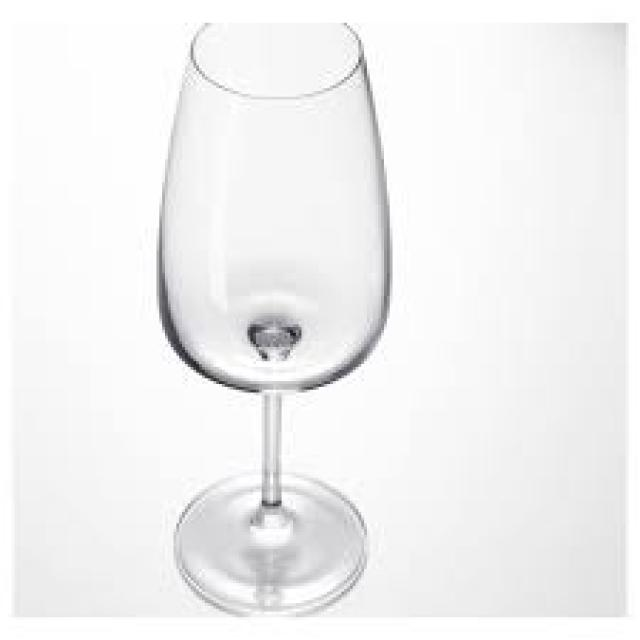glass: (156, 17, 387, 612)
